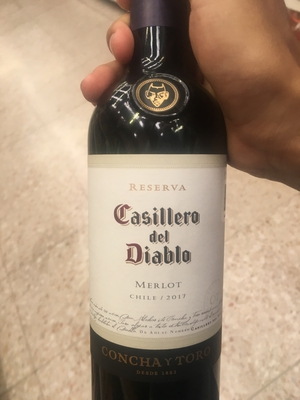casillero del diablo merlot: (85, 29, 228, 400)
